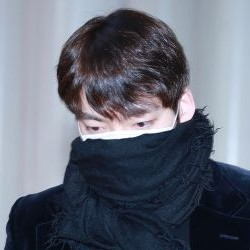mask: (77, 104, 180, 197)
